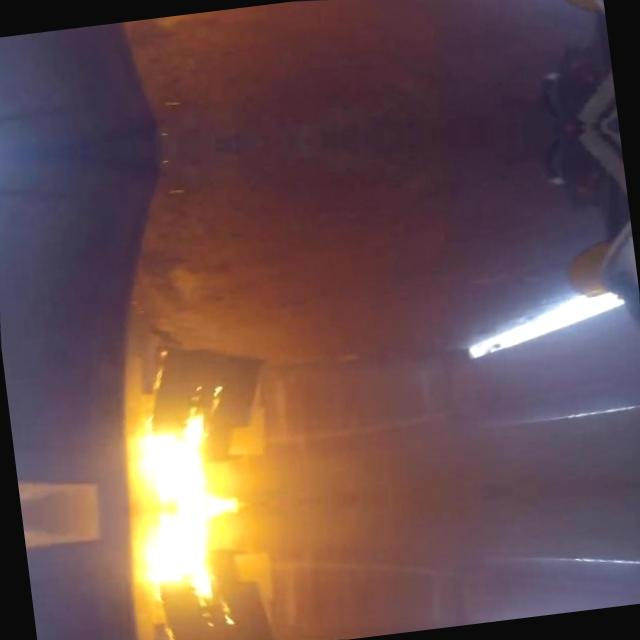fire: (79, 380, 284, 640)
